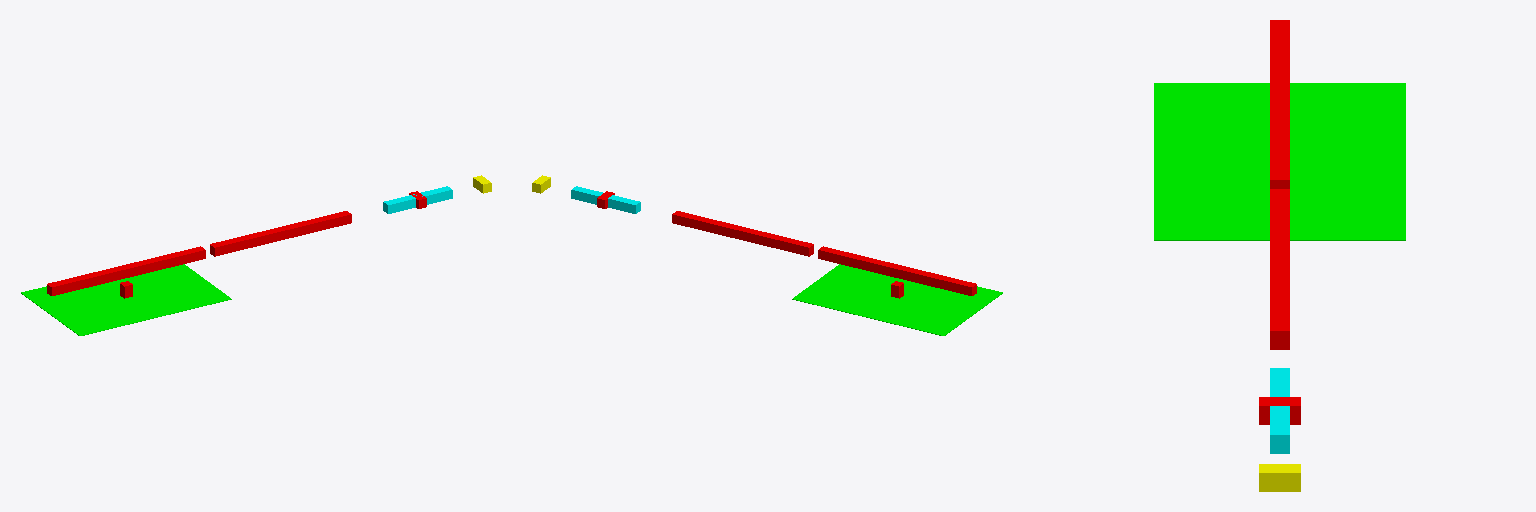
URDF robot description (rsx_arm):
<robot name="rsx_arm">
  <link name="link0_base">
    <visual>
      <origin xyz="0 0 0" rpy="0 0 0" />
      <geometry>
        <box size="35.5 24 0.1" />
      </geometry>
      <material name="Green">
        <color rgba="0 1.0 0 0.5"/>
      </material>
    </visual>
  </link>

  <link name="link1_waist">
    <visual>
      <origin xyz="0 0 0" rpy="0 0 0" />
      <geometry>
        <box size="2 2 5.5" />
      </geometry>
      <material name="Red">
        <color rgba="1.0 0 0 0.5"/>
      </material>
    </visual>
  </link>

  <link name="link2_shoulder">
    <visual>
      <origin xyz="0 0 0" rpy="0 0 0" />
      <geometry>
        <box size="36 2 2" />
      </geometry>
      <material name="Red">
        <color rgba="1.0 0 0 0.5"/>
      </material>
    </visual>
  </link>

  <link name="link3_elbow">
    <visual>
      <origin xyz="0 0 0" rpy="0 0 0" />
      <geometry>
        <box size="32 2 2" />
      </geometry>
      <material name="Red">
        <color rgba="1.0 0 0 0.5"/>
      </material>
    </visual>
  </link>

  <link name="link4_wrist1">
    <visual>
      <origin xyz="0 0 0" rpy="0 0 0" />
      <geometry>
        <box size="4 2 2" />
      </geometry>
      <material name="Red">
        <color rgba="1.0 0 0 0.5"/>
      </material>
    </visual>
  </link>

  <link name="link5_wrist2">
    <visual>
      <origin xyz="0 0 0" rpy="0 0 0" />
      <geometry>
        <box size="15 2 2" />
      </geometry>
      <material name="Cyan">
        <color rgba="0 1.0 1.0 0.5"/>
      </material>
    </visual>
  </link>

  <link name="link6_wrist3">
    <visual>
      <origin xyz="0 0 0" rpy="0 0 0" />
      <geometry>
        <box size="4 2 2" />
      </geometry>
      <material name="Yellow">
        <color rgba="1.0 1.0 0 0.5"/>
      </material>
    </visual>
  </link>
    


  <joint name="joint0_waist" type="continuous">
    <parent link="link0_base"/>
    <child link="link1_waist"/>
    <origin xyz="0 0 0" rpy="0 0 0" />
    <axis xyz="0 0 1" />
  </joint>
   
  <joint name="joint1_shoulder" type="continuous">
    <parent link="link1_waist"/>
    <child link="link2_shoulder"/>
    <origin xyz="0 0 5.5" rpy="1.5707963 0 0" />
    <axis xyz="0 0 1" />
  </joint>
   
  <joint name="joint2_elbow" type="continuous">
    <parent link="link2_shoulder"/>
    <child link="link3_elbow"/>
    <origin xyz="36 0 0" rpy="0 0 0" />
    <axis xyz="0 0 1" />
  </joint>

  <joint name="joint3_wrist1" type="continuous">
    <parent link="link3_elbow"/>
    <child link="link4_wrist1"/>
    <origin xyz="32 0 0" rpy="0 1.5707963 0" />
    <axis xyz="0 0 1" />
  </joint>

  <joint name="joint4_wrist2" type="continuous">
    <parent link="link4_wrist1"/>
    <child link="link5_wrist2"/>
    <origin xyz="0 0 0" rpy="0 -1.5707963 0" />
    <axis xyz="0 0 1" />
  </joint>

  <joint name="joint5_wrist3" type="continuous">
    <parent link="link5_wrist2"/>
    <child link="link6_wrist3"/>
    <origin xyz="15 0 0" rpy="0 1.5707963 0" />
    <axis xyz="0 0 1" />
  </joint>
</robot>

--- Render facts (derived) ---
Views: 3 orthographic renders of the robot side by side, from view 1: azimuth 30°, elevation 25°; view 2: azimuth 150°, elevation 25°; view 3: azimuth 270°, elevation 25°.
Model rsx_arm with 7 links and 6 joints (6 continuous), rooted at link0_base, posed all joints at 0.
Links seen in each view (by area): view 1: link0_base, link2_shoulder, link3_elbow, link5_wrist2; view 2: link0_base, link2_shoulder, link3_elbow, link5_wrist2; view 3: link0_base, link2_shoulder, link3_elbow, link5_wrist2, link6_wrist3, link4_wrist1.
Link boxes in pixels (x1,y1,x2,y2): link0_base: (21, 264, 231, 335); link2_shoulder: (47, 246, 205, 295); link3_elbow: (210, 211, 351, 256); link5_wrist2: (383, 186, 452, 213); link0_base: (792, 264, 1002, 335); link2_shoulder: (818, 246, 976, 295); link3_elbow: (672, 211, 813, 256); link5_wrist2: (571, 186, 640, 213); link0_base: (1154, 83, 1405, 240); link2_shoulder: (1270, 20, 1289, 188); link3_elbow: (1270, 189, 1289, 349); link5_wrist2: (1270, 368, 1289, 453); link6_wrist3: (1259, 464, 1300, 491); link4_wrist1: (1259, 397, 1300, 424).
Size in the robot's own frame: 102 by 24 by 9.25 metres.
Geometry: primitives only (box / cylinder / sphere), no mesh files.